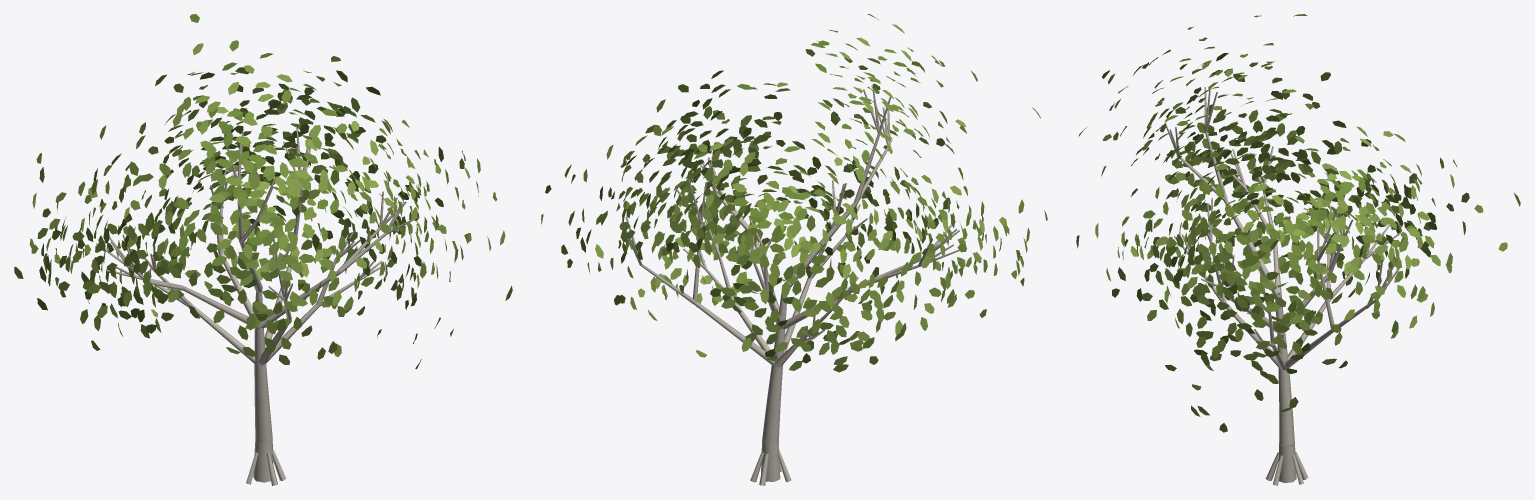
File: birch_1.glb
3 views of the same model, side by side, from view 1: azimuth 30°, elevation 25°; view 2: azimuth 150°, elevation 25°; view 3: azimuth 270°, elevation 25° (orthographic). The views are drawn at different scales.
Parts seen in each view (by area): view 1: birch_1_LOD0; view 2: birch_1_LOD0; view 3: birch_1_LOD0.
Boxes of the visible parts, box(x1,y1,x2,y2) form: birch_1_LOD0: box(14, 14, 512, 485); birch_1_LOD0: box(541, 14, 1047, 485); birch_1_LOD0: box(1076, 14, 1520, 485).
Size of what is drawn, in the model's own units: 2.32 by 2.26 by 2.08.
